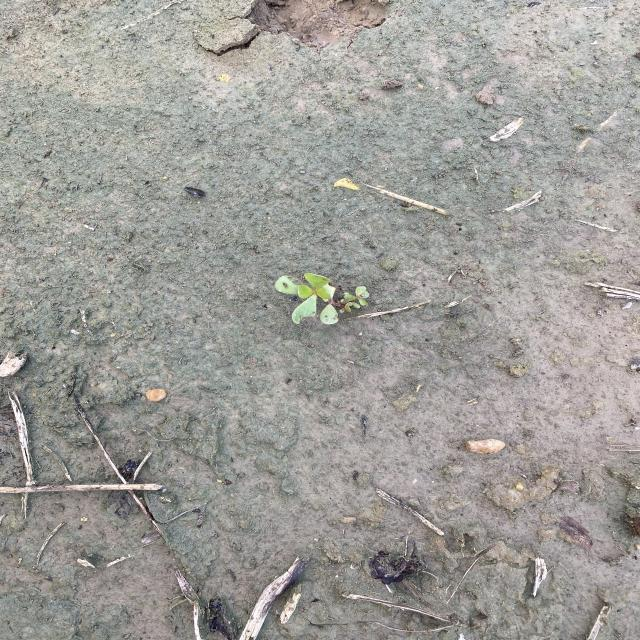Purslane: (273, 272, 372, 326)
